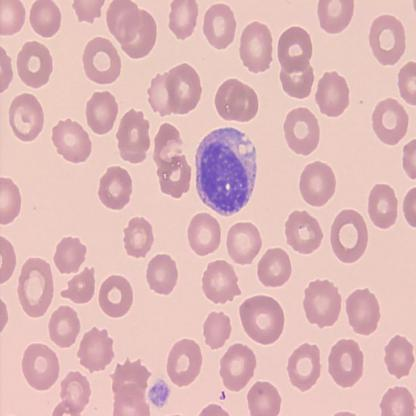Metamyelocyte: (194, 125, 259, 218)
